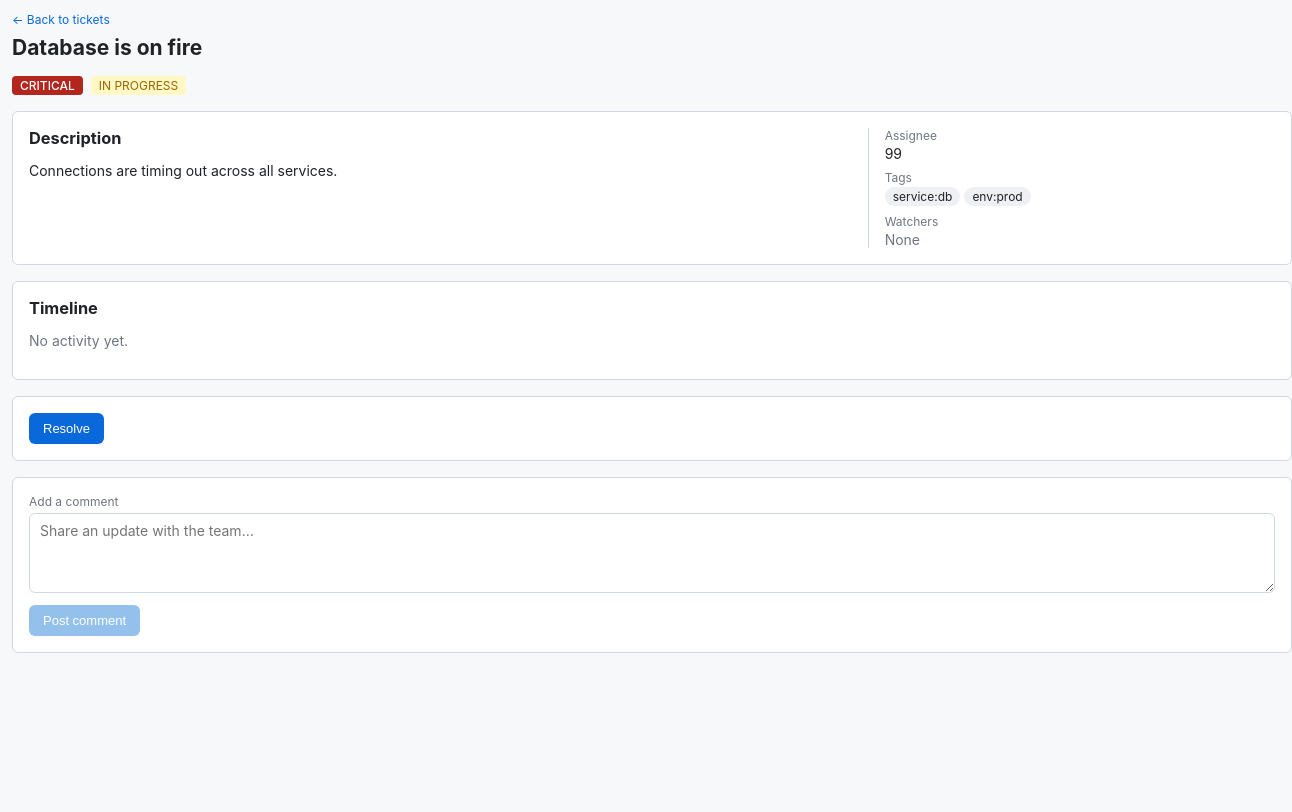
Test: TicketDetailPage › disables the submit button while a comment is in flight
The width and height of the screenshot is (1292, 812).
Step 1. Type "hello" into the text box labelled "Add a comment" → {"x": 652, "y": 553}, box [29, 513, 1275, 593]
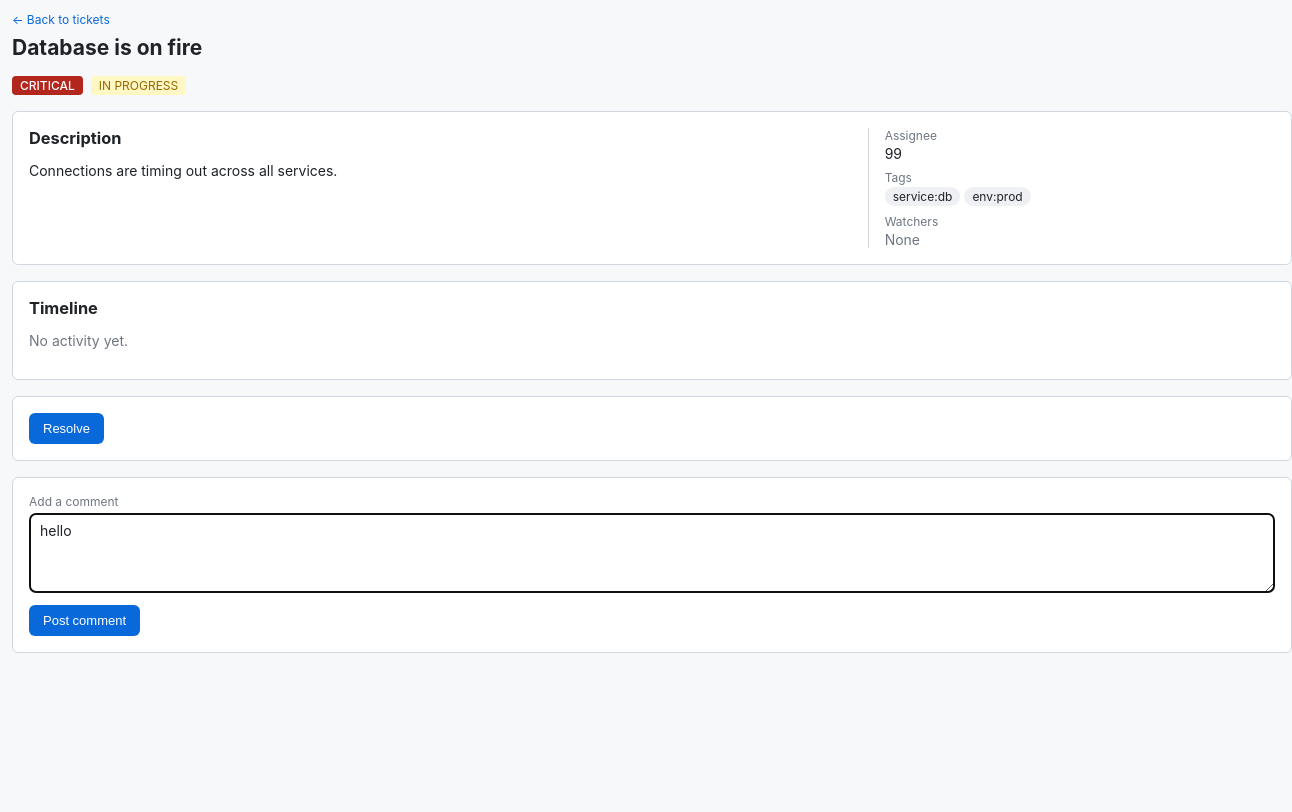
Step 2. Click the button "Post comment" → {"x": 85, "y": 620}, box [29, 605, 140, 636]
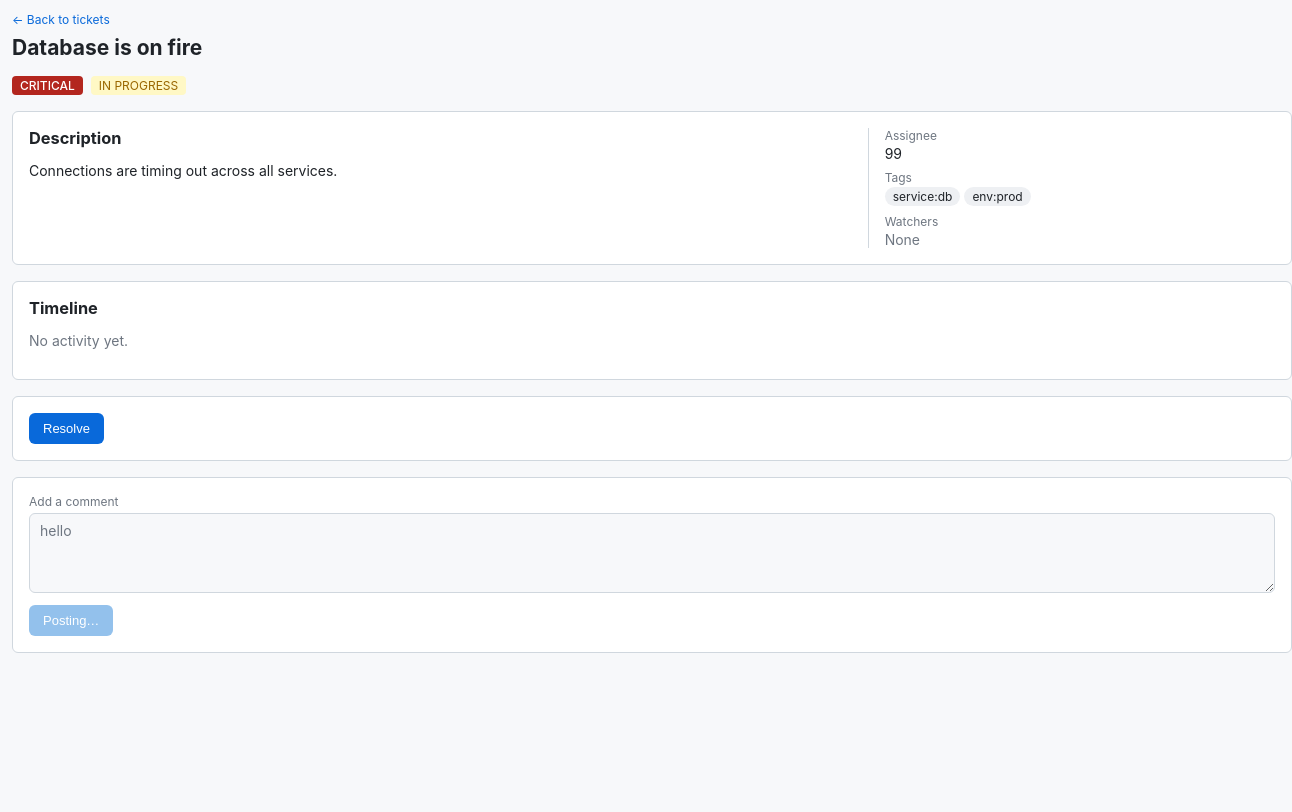
Expected: the button named "post comment" is disabled, [29, 605, 113, 636]
Expected: the text box labelled "Add a comment" is disabled, [29, 513, 1275, 593]
